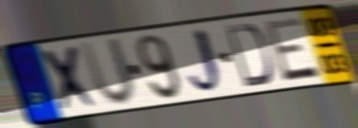9: (134, 32, 182, 101)
D: (223, 22, 275, 90)
E: (261, 15, 324, 85)
J: (186, 26, 227, 96)
U: (78, 35, 139, 108)
X: (38, 43, 103, 115)
